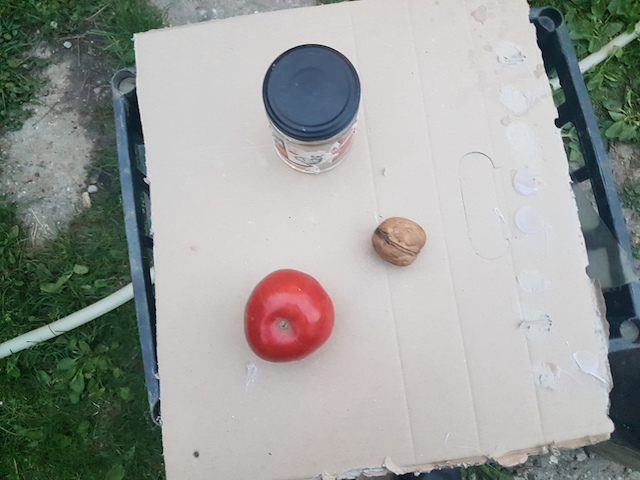apple: (243, 267, 337, 366)
nut: (370, 216, 427, 269)
recipient: (264, 44, 363, 140)
